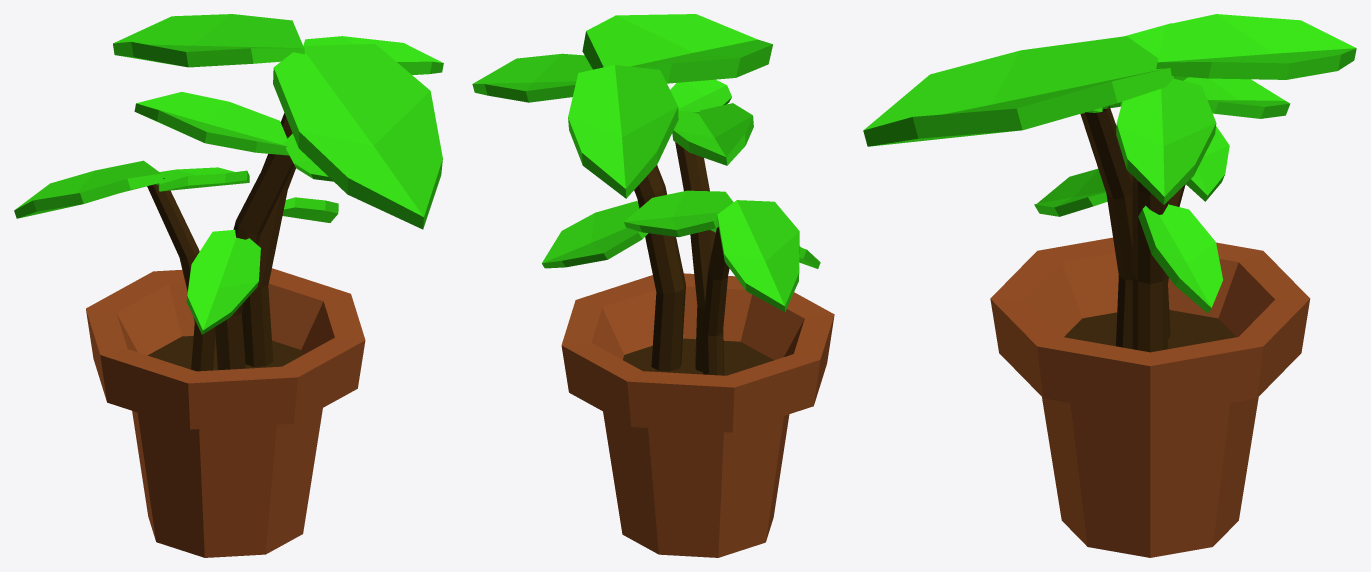
File: NewPlant.fbx
3 views of the same model, side by side, from view 1: azimuth 30°, elevation 25°; view 2: azimuth 150°, elevation 25°; view 3: azimuth 270°, elevation 25° (orthographic). The views are drawn at different scales.
Visible parts, largest first — view 1: Cylinder.054; view 2: Cylinder.054; view 3: Cylinder.054.
Boxes of the visible parts, left/top/right/bottom form: Cylinder.054: left=14, top=14, right=443, bottom=557; Cylinder.054: left=472, top=14, right=834, bottom=557; Cylinder.054: left=863, top=14, right=1356, bottom=557.
Size of the model in its own units: 383 by 453 by 395.
